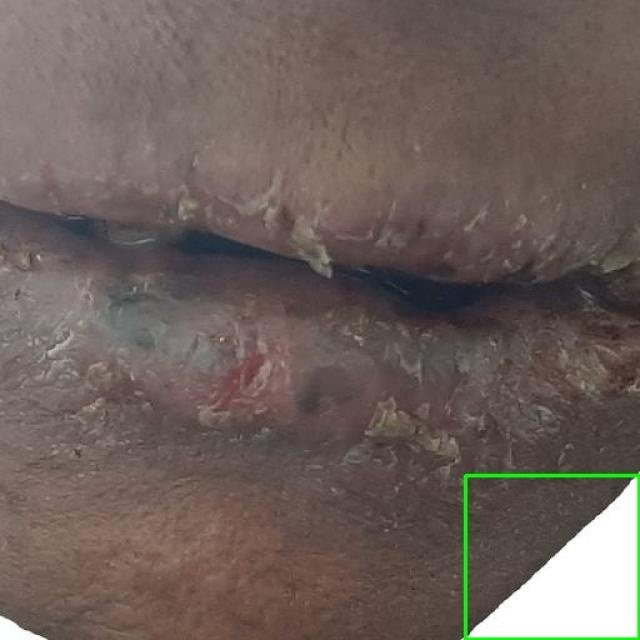Contact Dermatitis: (465, 475, 639, 639)
